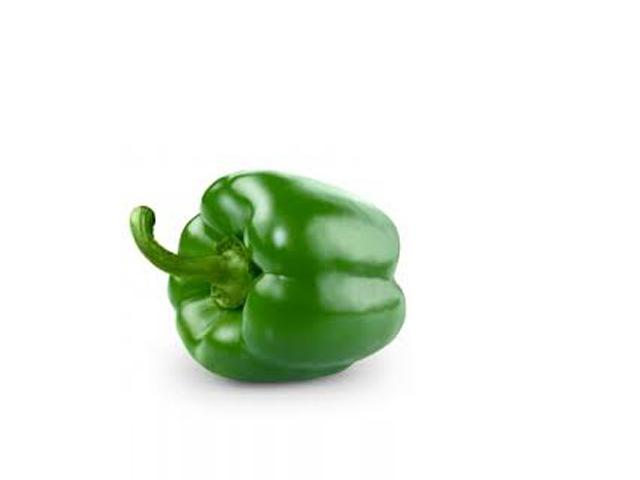bell_pepper: (122, 167, 412, 378)
